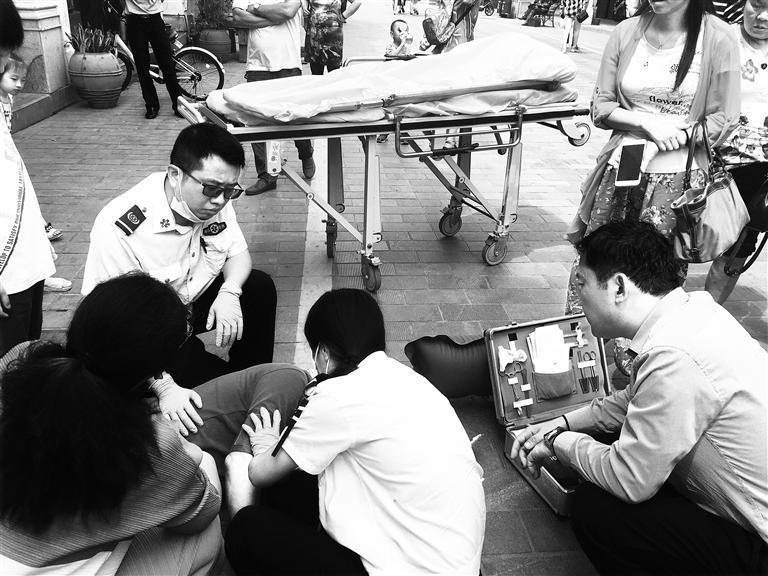Fall-Detected: (114, 330, 329, 544)
